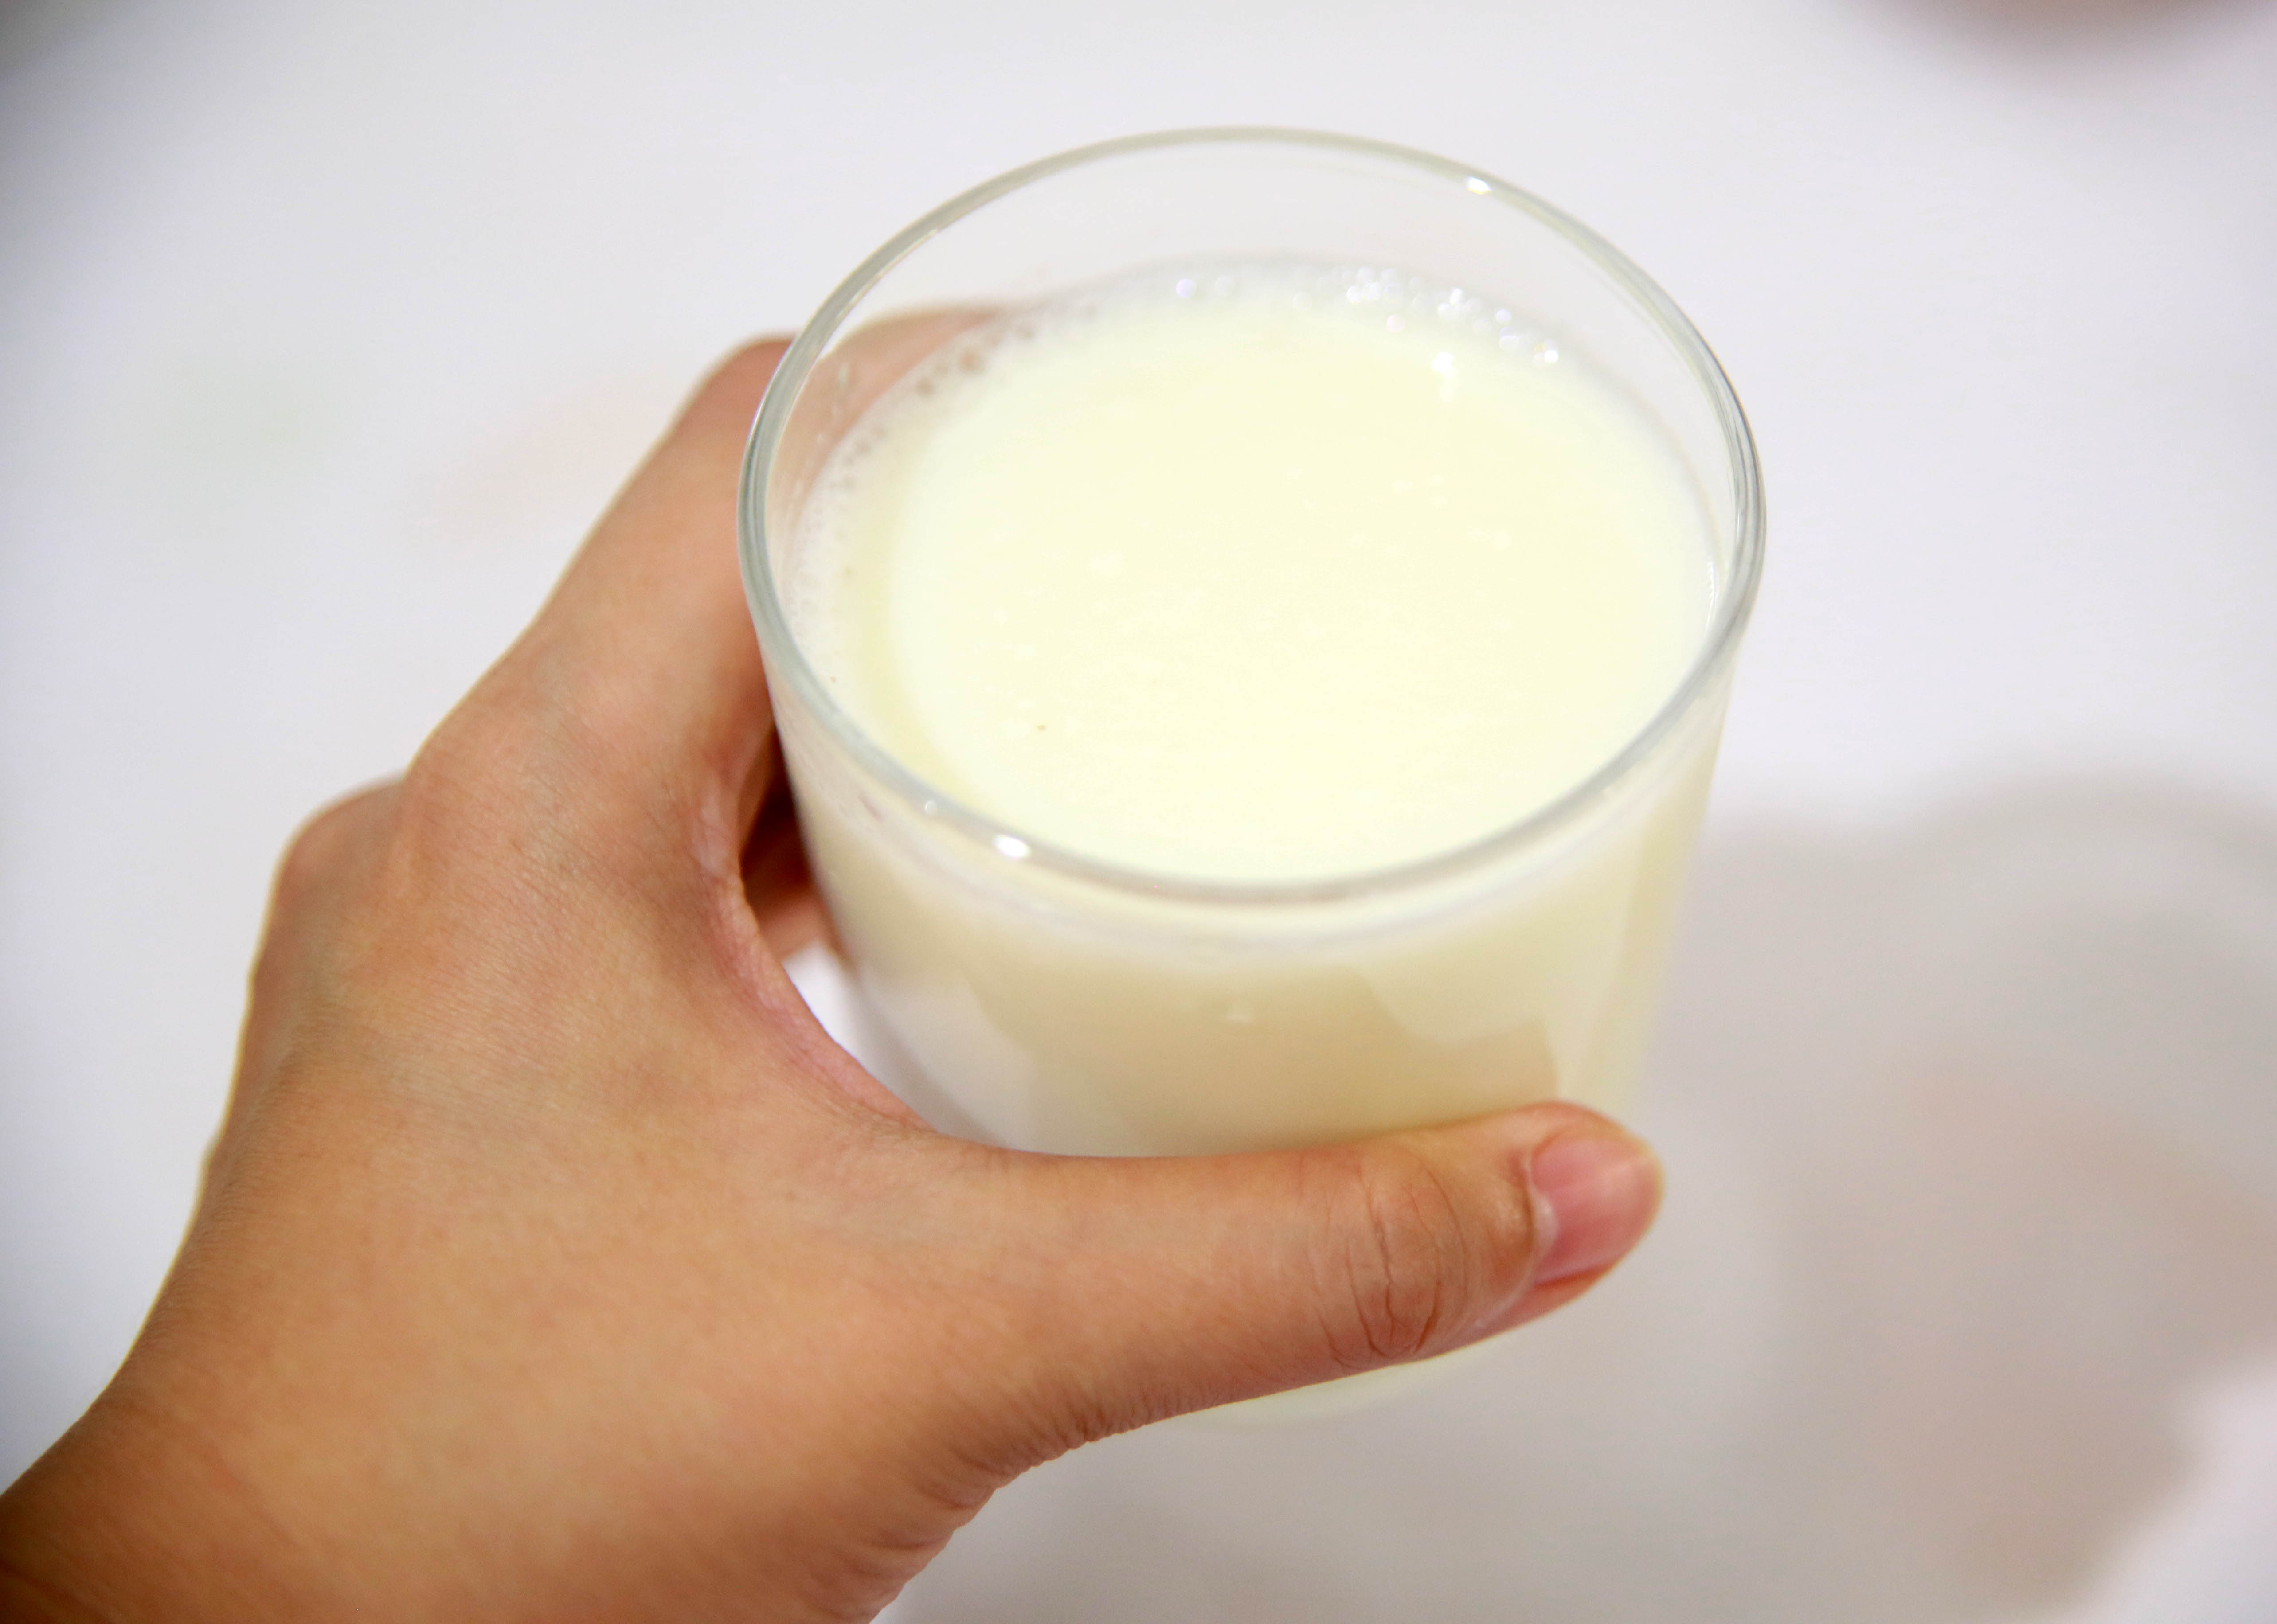glass of milk: (797, 279, 1753, 1077)
